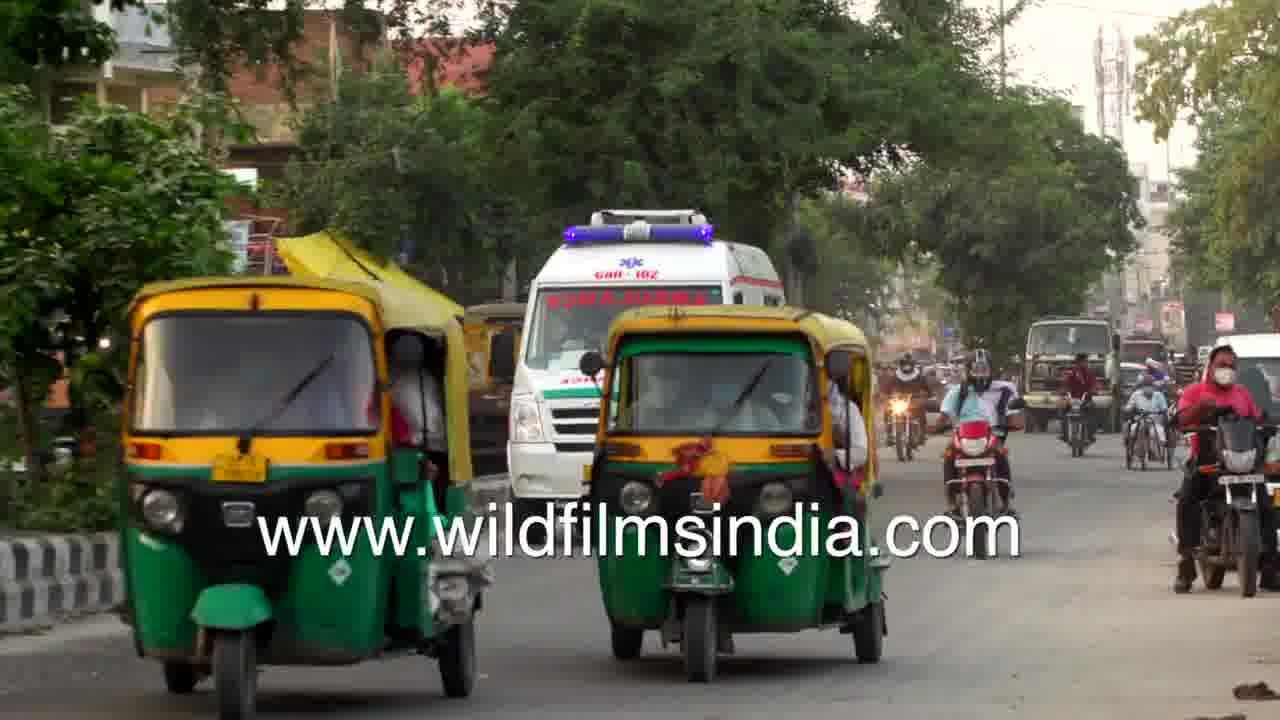AMBULANCE: (512, 181, 808, 331), (482, 155, 589, 551)
